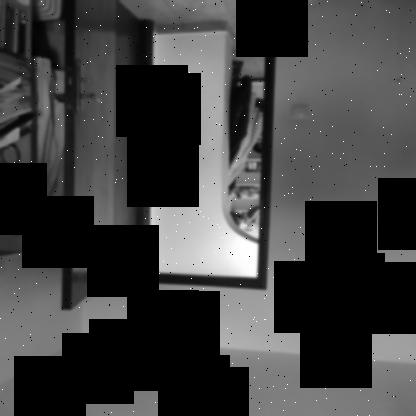Porte: (48, 0, 281, 312)
